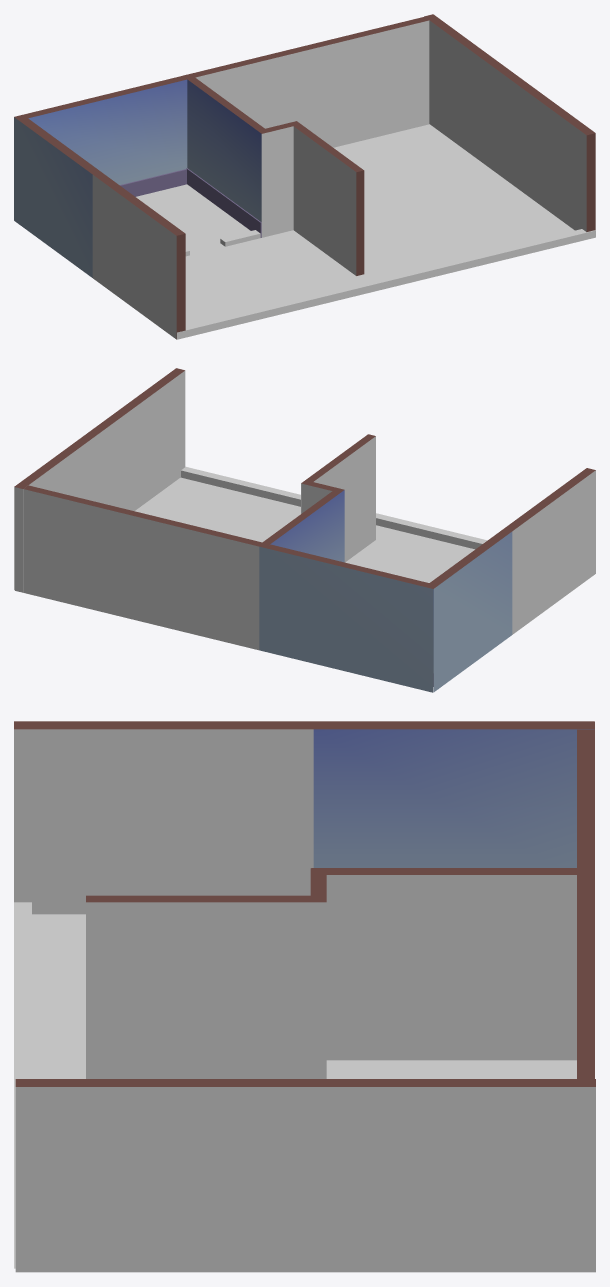
Rendered from HouseWalls.fbx.
The picture shows the model from 3 angles, top to bottom: view 1: azimuth 30°, elevation 25°; view 2: azimuth 150°, elevation 25°; view 3: azimuth 270°, elevation 25°; orthographic projection. The views are drawn at different scales.
Visible parts, largest first — view 1: HouseFloor, HouseWalls_Back, HouseWalls_Right, HouseWalls_Mid, HouseWalls_BathroomB, HouseWalls_Left, HouseWalls_BathroomL, HouseWalls_BathroomM, HouseWalls_Front, HouseFloor_Bathroom; view 2: HouseWalls_Back, HouseWalls_BathroomB, HouseWalls_Right, HouseFloor, HouseWalls_Left, HouseWalls_BathroomL, HouseWalls_Mid, HouseWalls_Front, HouseWalls_BathroomM; view 3: HouseWalls_Right, HouseWalls_Mid, HouseWalls_Left, HouseWalls_BathroomL, HouseFloor, HouseWalls_Back, HouseWalls_Front, HouseWalls_BathroomB.
Boxes of the visible parts, x1,y1,x2,y2 form: HouseFloor: (185, 124, 574, 325); HouseWalls_Back: (190, 16, 429, 147); HouseWalls_Right: (424, 14, 595, 231); HouseWalls_Mid: (182, 74, 364, 275); HouseWalls_BathroomB: (23, 76, 187, 196); HouseWalls_Left: (92, 172, 185, 339); HouseWalls_BathroomL: (14, 115, 101, 277); HouseWalls_BathroomM: (186, 79, 261, 237); HouseWalls_Front: (177, 229, 595, 339); HouseFloor_Bathroom: (136, 184, 250, 252); HouseWalls_Back: (15, 485, 261, 650); HouseWalls_BathroomB: (259, 544, 433, 692); HouseWalls_Right: (14, 368, 185, 592); HouseFloor: (135, 477, 474, 582); HouseWalls_Left: (503, 468, 595, 634); HouseWalls_BathroomL: (425, 529, 512, 691); HouseWalls_Mid: (258, 434, 375, 562); HouseWalls_Front: (181, 466, 487, 549); HouseWalls_BathroomM: (270, 490, 344, 562); HouseWalls_Right: (15, 1079, 595, 1272); HouseWalls_Mid: (86, 868, 594, 1078); HouseWalls_Left: (14, 721, 313, 914); HouseWalls_BathroomL: (313, 721, 594, 867); HouseFloor: (14, 915, 576, 1268); HouseWalls_Back: (577, 874, 594, 1078); HouseWalls_Front: (14, 902, 31, 1259); HouseWalls_BathroomB: (577, 722, 594, 873).
Bounding box in the file's own units: 2273 × 542 × 1529.
